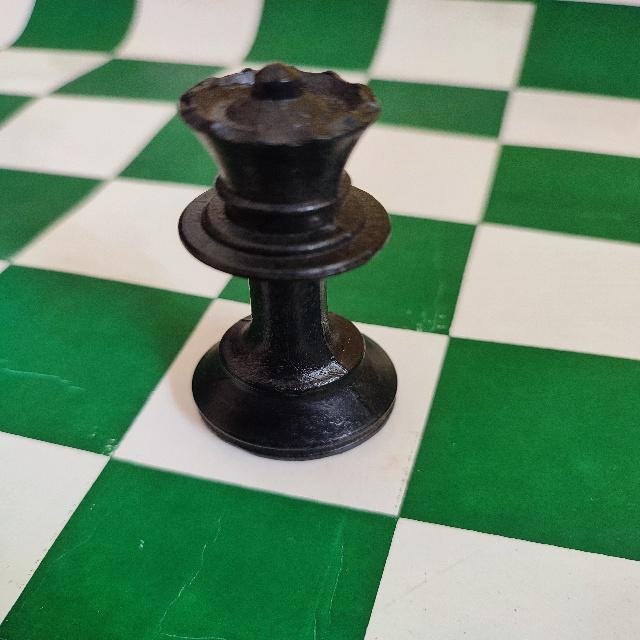Queen: (172, 59, 401, 467)
